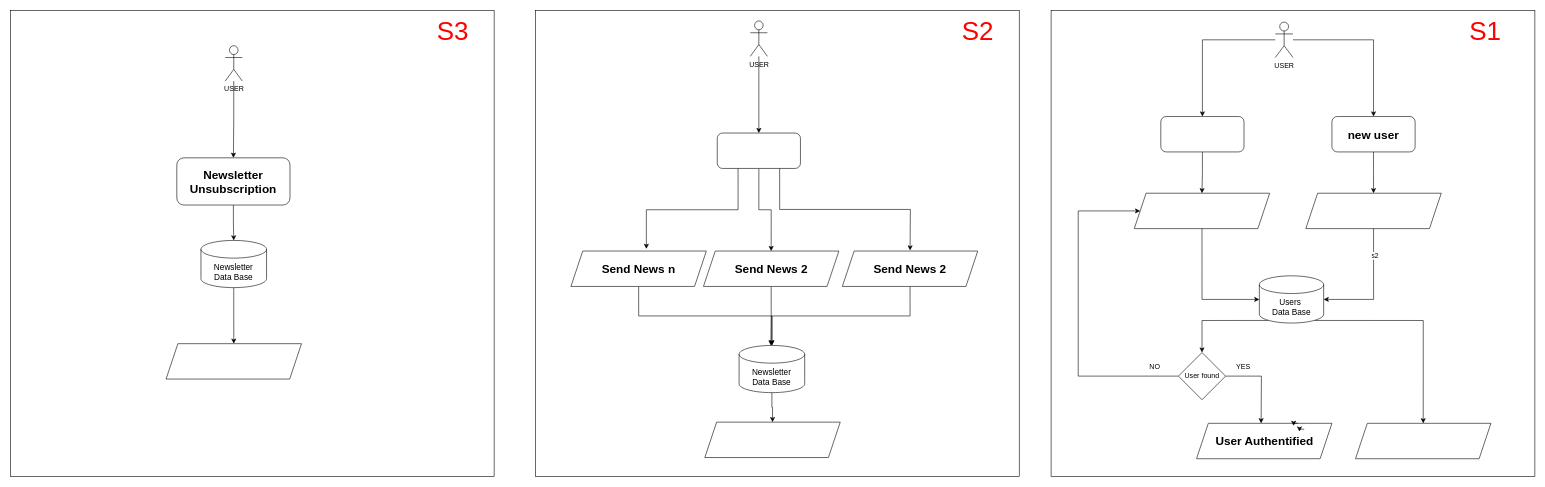
Some shapes in this 1545 by 487 pixel diagram are drawn without their labels. The box of each missing label's shape, as (x1, y1, x2, y2) in pixels:
Account Creation: (1305, 193, 1441, 229)
Authentification Introducing ID and PW: (1134, 193, 1270, 229)
Newsletter Subscription: (717, 132, 800, 168)
Old user: (1160, 116, 1244, 152)
User Added: (1355, 423, 1491, 459)
User Subscribed: (704, 422, 840, 458)
User Unsubscribed: (165, 343, 301, 379)
